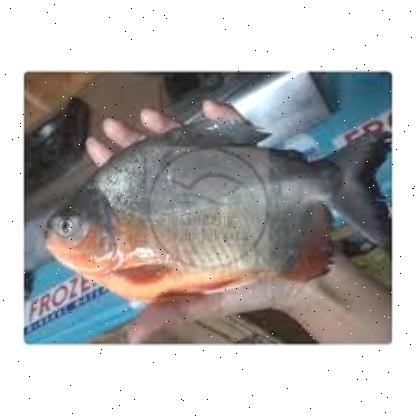ikan-pacu: (47, 134, 364, 296)
